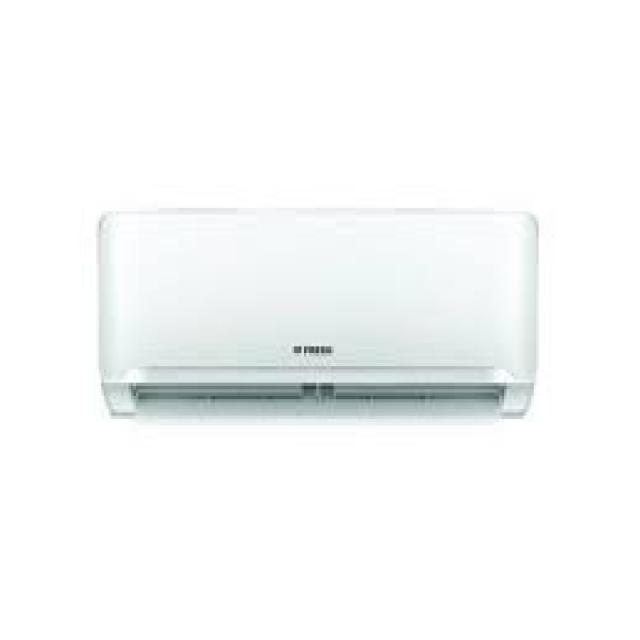ac: (100, 212, 540, 418)
